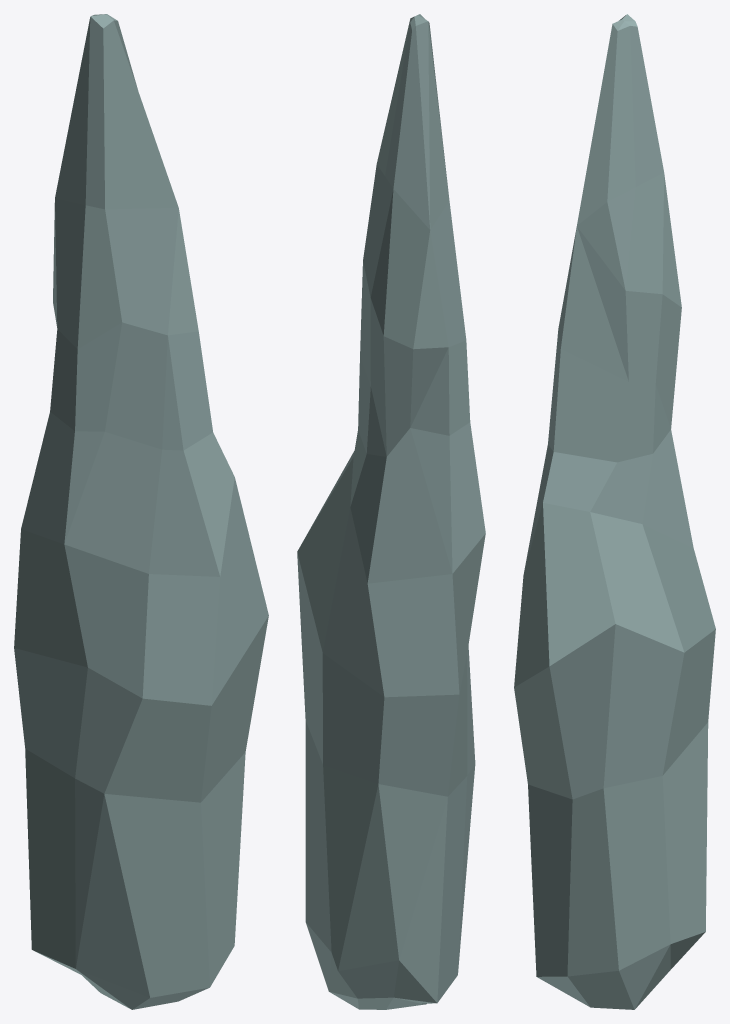
Rendered from salactites_2.fbx.
3 views of the same model, side by side, from view 1: azimuth 30°, elevation 25°; view 2: azimuth 150°, elevation 25°; view 3: azimuth 270°, elevation 25° (orthographic). The views are drawn at different scales.
Parts seen in each view (by area): view 1: salactites_sharp_2; view 2: salactites_sharp_2; view 3: salactites_sharp_2.
Part boxes in pixels (left/top/right/bottom): salactites_sharp_2: left=14, top=14, right=268, bottom=1009; salactites_sharp_2: left=297, top=14, right=485, bottom=1009; salactites_sharp_2: left=514, top=14, right=715, bottom=1009.
Bounding box in the file's own units: 2301 × 11393 × 2154.
